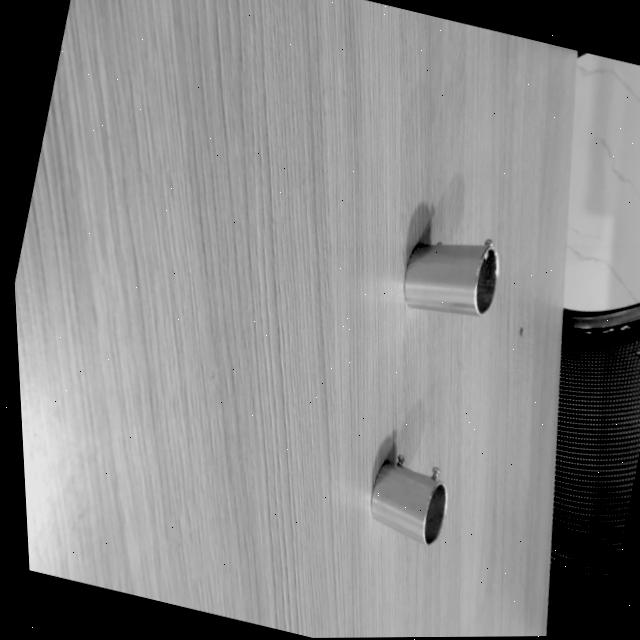Co_Lon: (402, 233, 500, 316)
Co_Nho: (362, 453, 455, 546)
